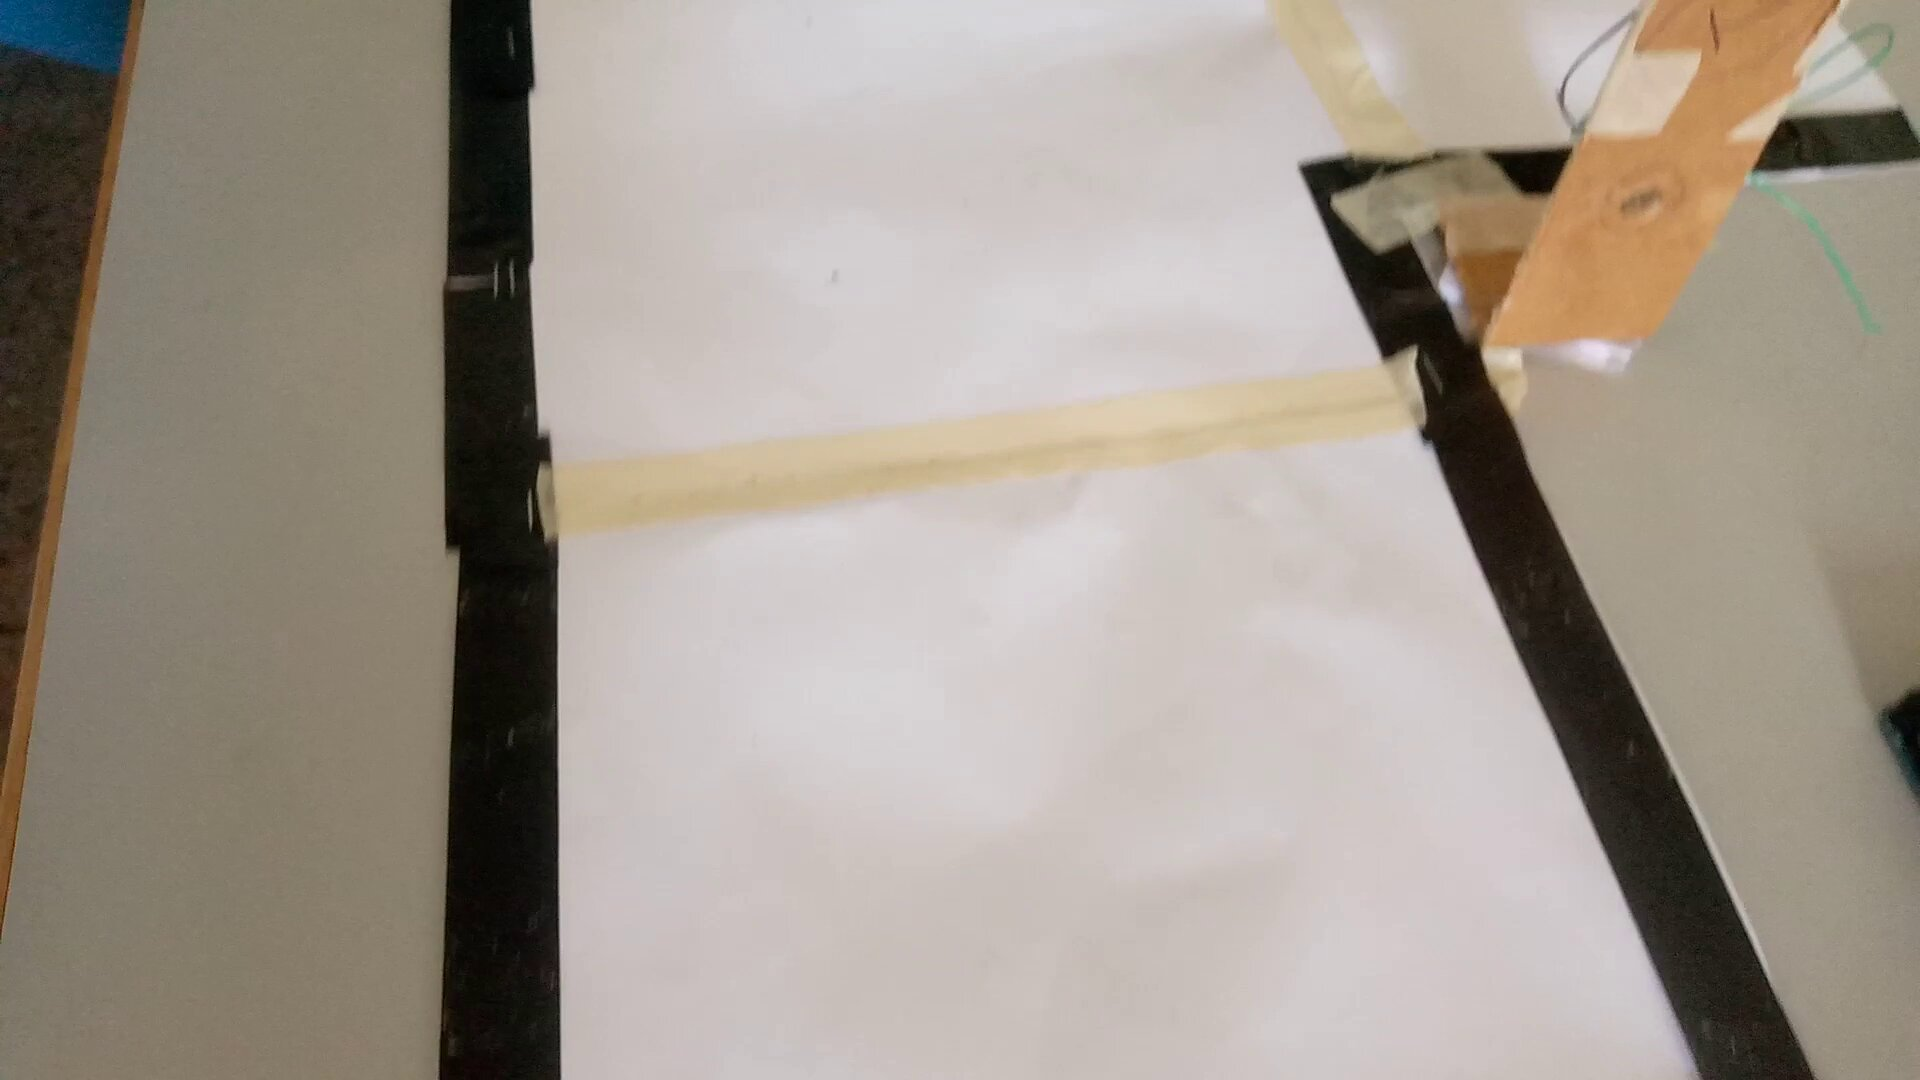forward: (396, 364, 1630, 647)
